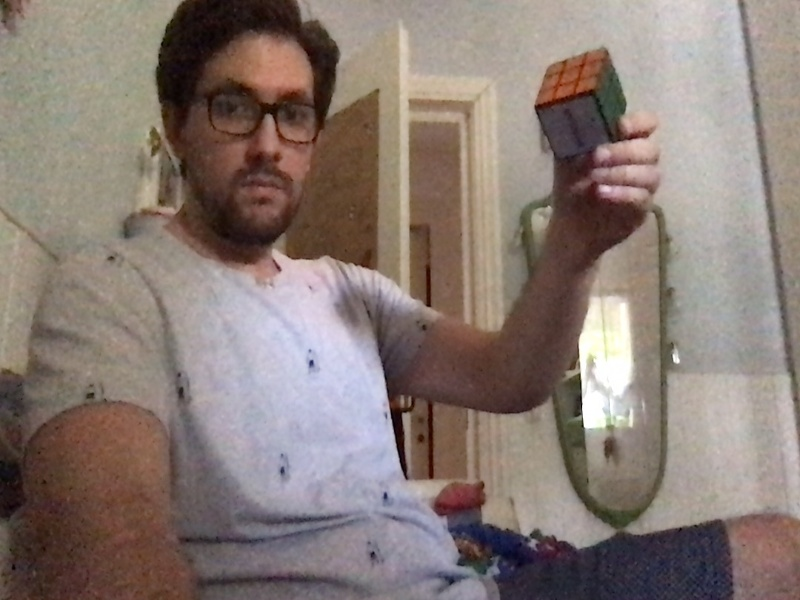rubik: (535, 46, 627, 159)
